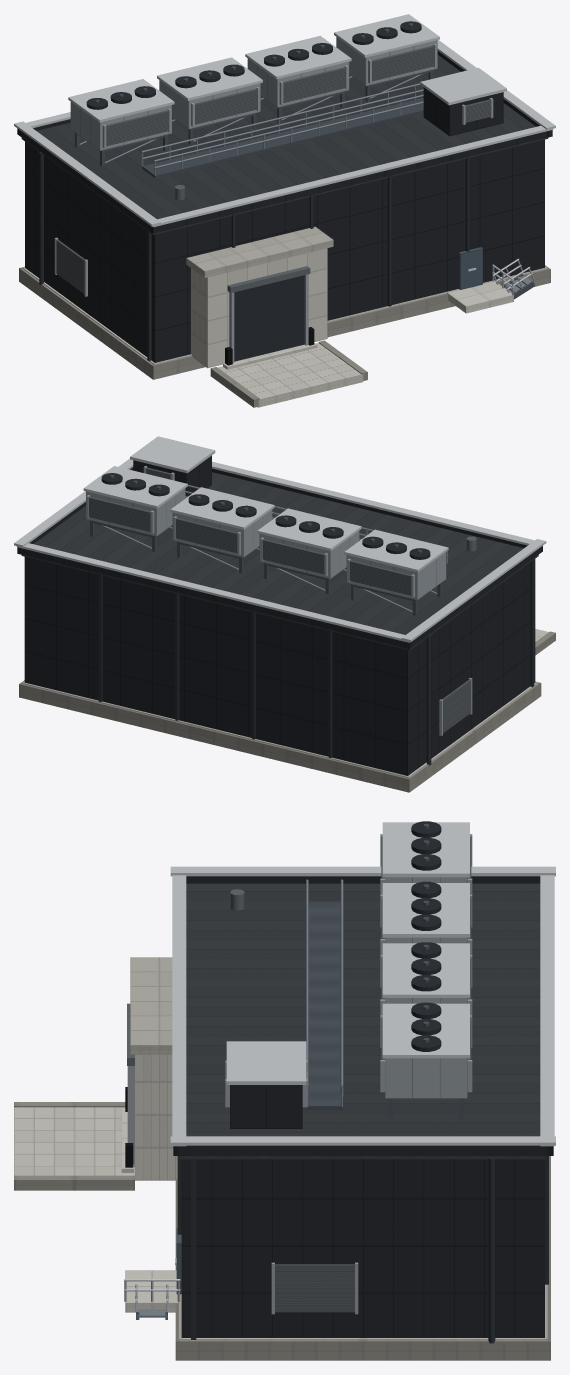
The model's file is el-1-built.glb.
3 renders of one model, top to bottom at view 1: azimuth 30°, elevation 25°; view 2: azimuth 150°, elevation 25°; view 3: azimuth 270°, elevation 25°, orthographic. The views are drawn at different scales.
Bounding box in the file's own units: 26.94 × 13.08 × 22.37.
Materials: 28 (21 with a texture image).
